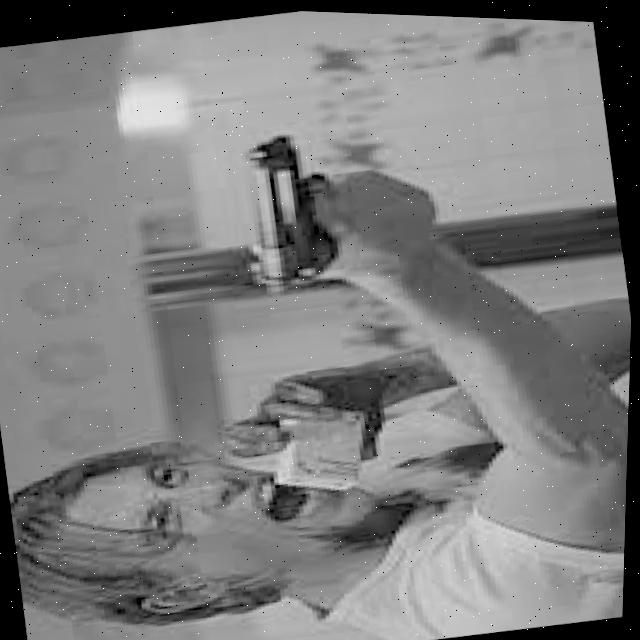pistol: (233, 123, 350, 291)
